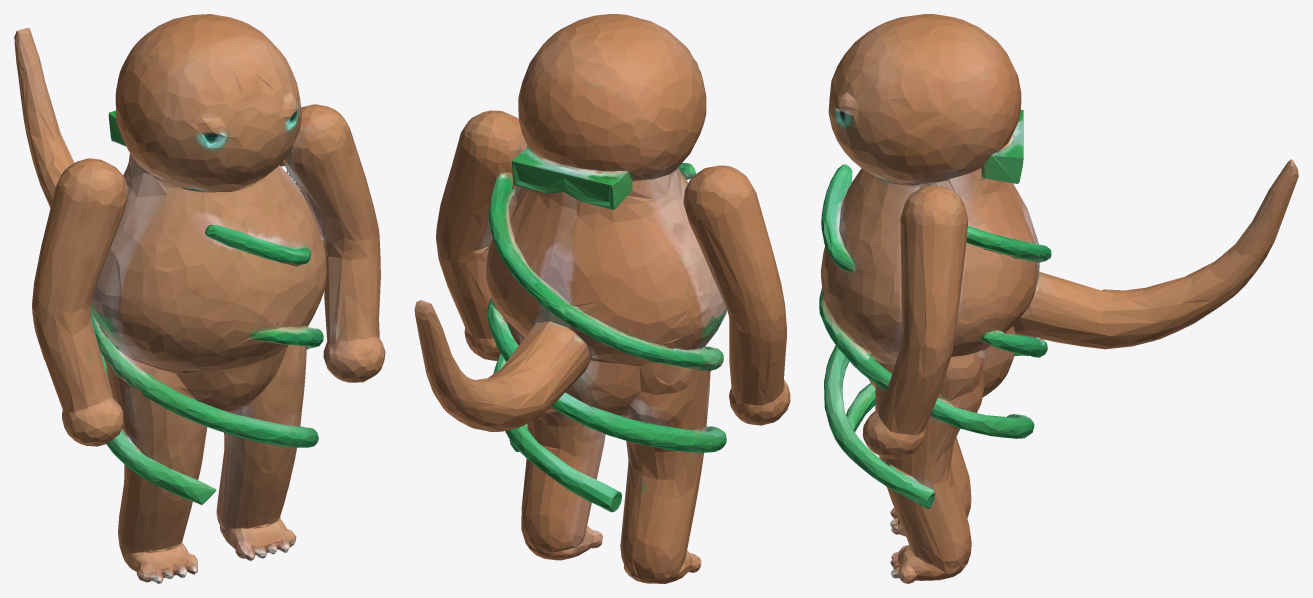
Rendered from creature-128.lod.glb.
3 views of the same model, side by side, from view 1: azimuth 30°, elevation 25°; view 2: azimuth 150°, elevation 25°; view 3: azimuth 270°, elevation 25° (orthographic). The views are drawn at different scales.
Parts seen in each view (by area): view 1: tmpjs221o0i.ply; view 2: tmpjs221o0i.ply; view 3: tmpjs221o0i.ply.
Part boxes in pixels (<box>): tmpjs221o0i.ply: <box>14,14,385,583</box>; tmpjs221o0i.ply: <box>414,14,790,583</box>; tmpjs221o0i.ply: <box>819,14,1298,583</box>.
Size of the model in its own units: 1.33 by 1.99 by 1.64.
Materials: 1 (1 with a texture image).
